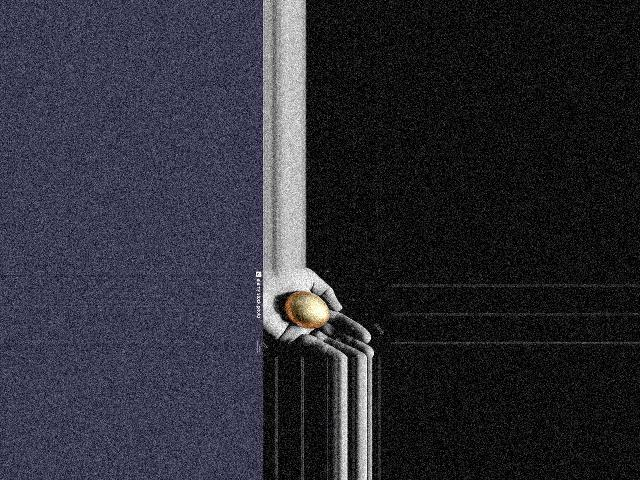egg: (285, 292, 329, 328)
